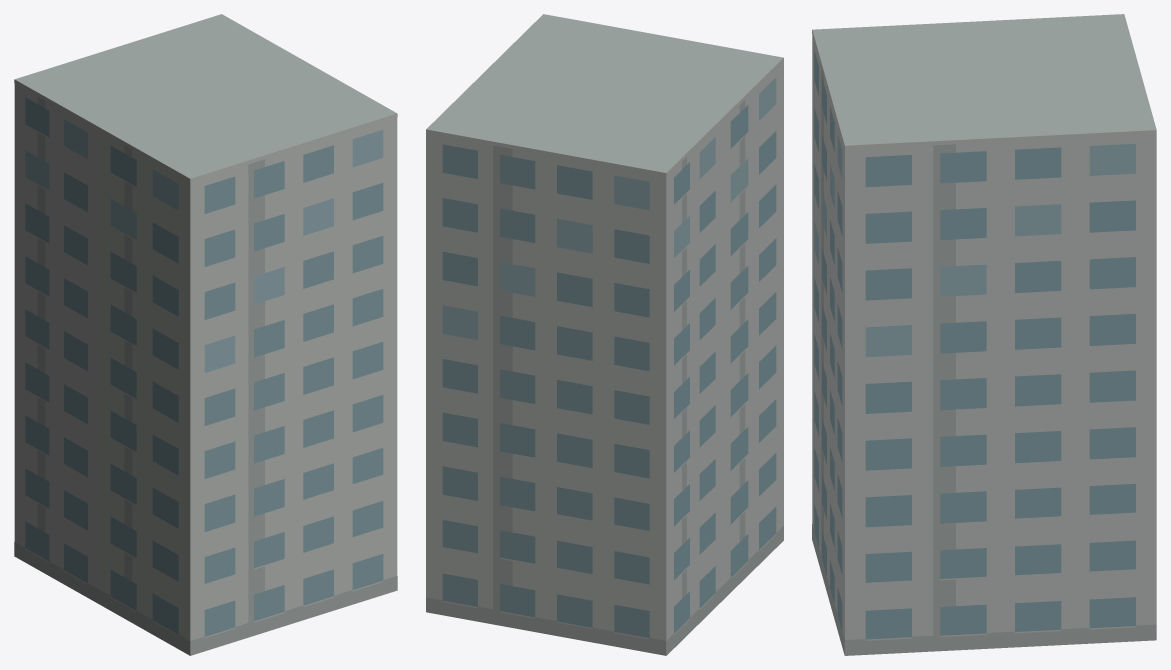
The model's file is residential-db126be7-0e00-440d-a0ee-26d7a2d1b66e.glb.
3 views of the same model, side by side, from view 1: azimuth 30°, elevation 25°; view 2: azimuth 150°, elevation 25°; view 3: azimuth 270°, elevation 25° (orthographic). The views are drawn at different scales.
Visible parts, largest first — view 1: residential-db126be7-0e00-440d-a0ee-26d7a2d1b66e.tmp; view 2: residential-db126be7-0e00-440d-a0ee-26d7a2d1b66e.tmp; view 3: residential-db126be7-0e00-440d-a0ee-26d7a2d1b66e.tmp.
Part boxes in pixels (<box>): residential-db126be7-0e00-440d-a0ee-26d7a2d1b66e.tmp: <box>14,14,397,655</box>; residential-db126be7-0e00-440d-a0ee-26d7a2d1b66e.tmp: <box>426,14,783,655</box>; residential-db126be7-0e00-440d-a0ee-26d7a2d1b66e.tmp: <box>812,14,1156,655</box>.
Size of the model in its own units: 16.61 by 30 by 18.37.
